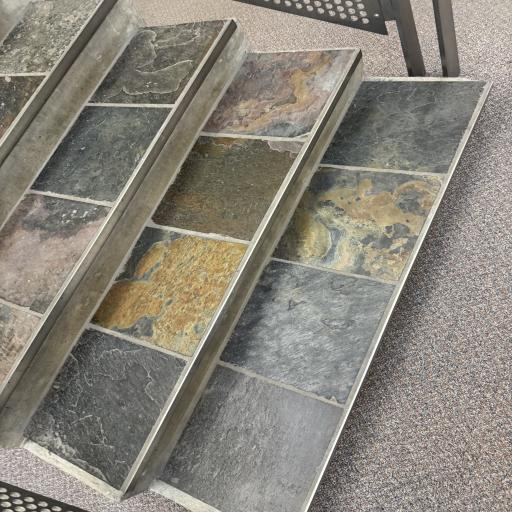Stairs: (0, 20, 491, 512)
